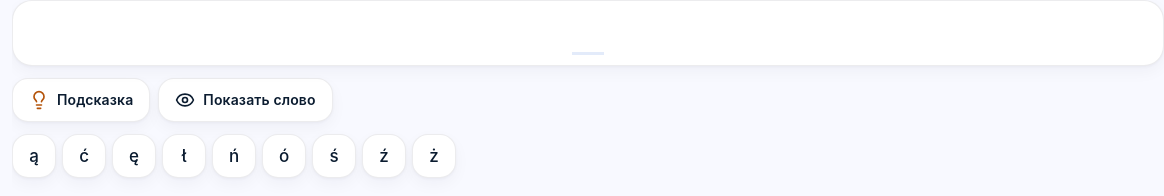
Scenario: LetterSlotsInput — typing › a correct letter turns its slot correct and advances the cursor
Type "k" into the field labelled "_" at (588, 33), box [12,0,1163,66]
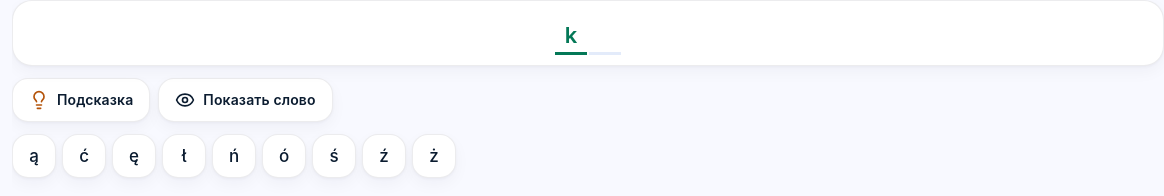
expect the text "k" is shown: met, box [555,11,587,55]
